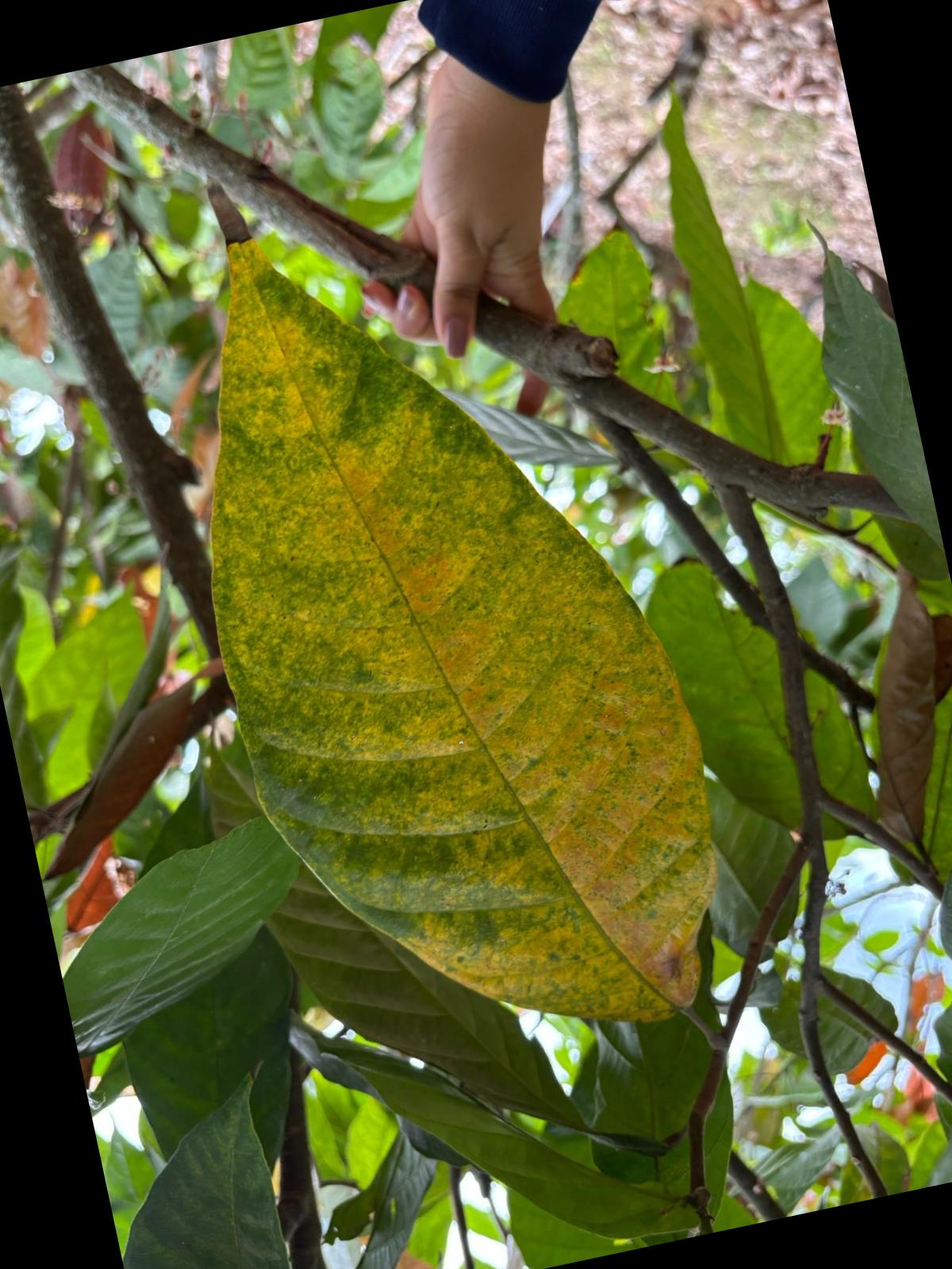Fosforo: (213, 242, 716, 1021)
